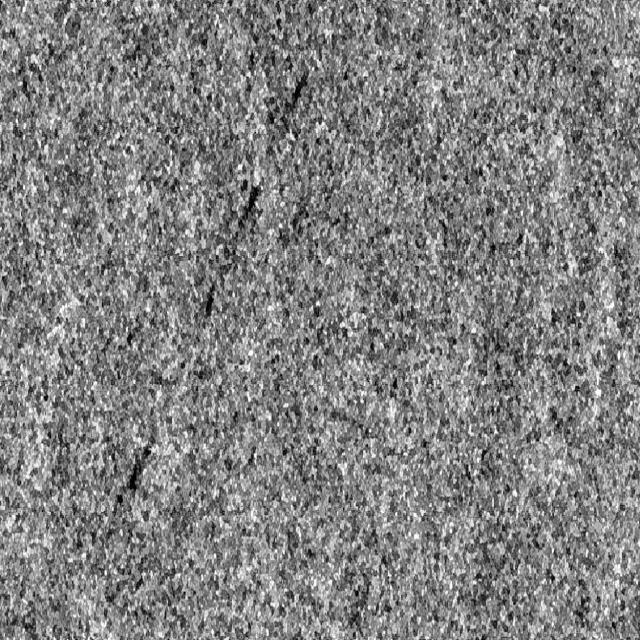oil-spill: (97, 66, 319, 516)
